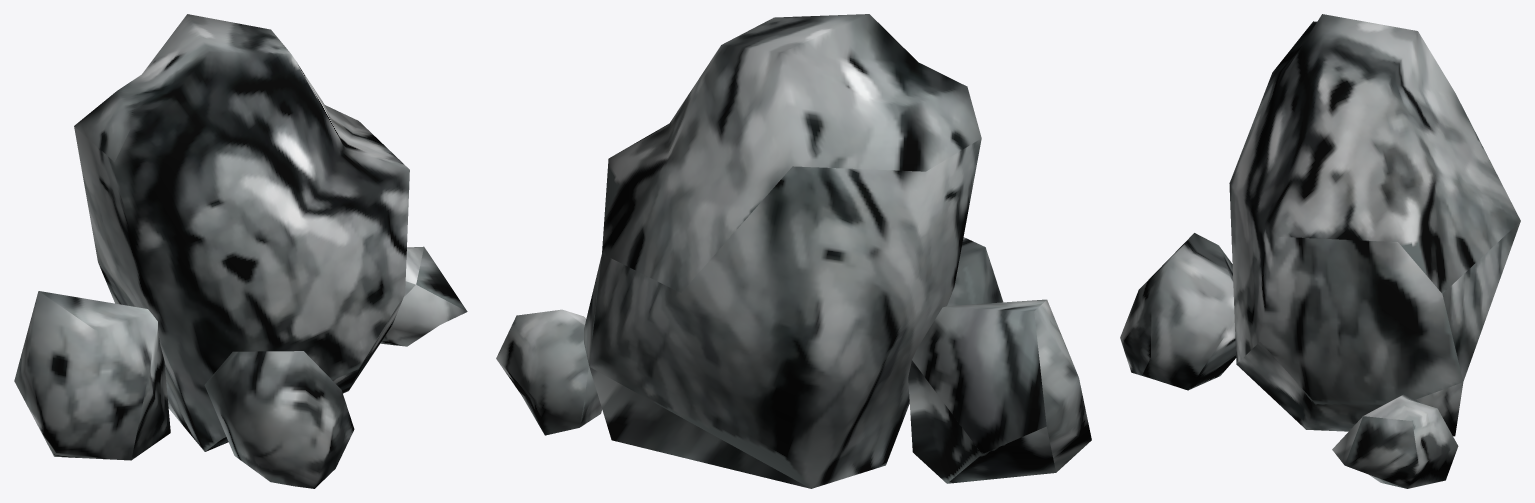
The model's file is PRP_BouldersE.fbx.
3 renders of one model, left to right at view 1: azimuth 30°, elevation 25°; view 2: azimuth 150°, elevation 25°; view 3: azimuth 270°, elevation 25°, orthographic. The views are drawn at different scales.
Parts seen in each view (by area): view 1: PRP_BouldersE; view 2: PRP_BouldersE; view 3: PRP_BouldersE.
Boxes of the visible parts, x1=… form: PRP_BouldersE: x1=14, y1=14, x2=467, y2=488; PRP_BouldersE: x1=496, y1=14, x2=1091, y2=488; PRP_BouldersE: x1=1120, y1=14, x2=1520, y2=488.
Bounding box in the file's own units: 204 × 168 × 160.
1 material, 1 textured.
